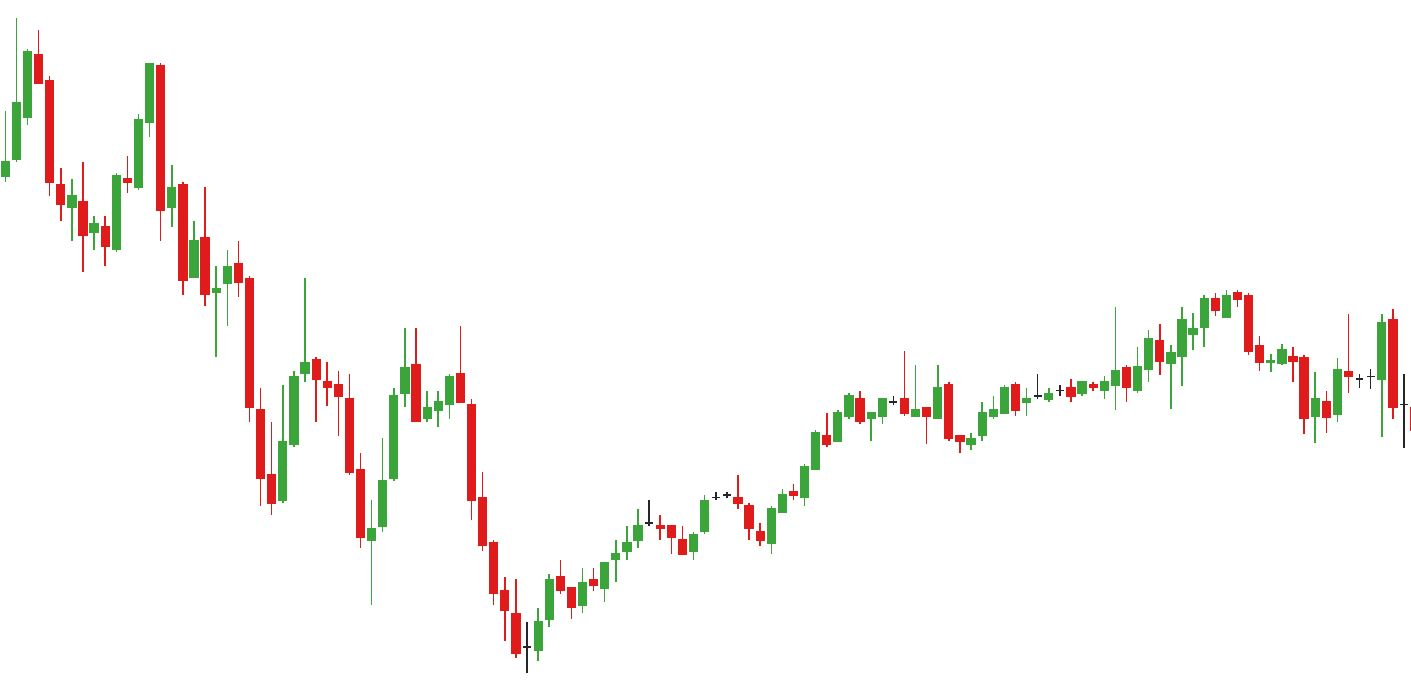buy: (255, 428, 389, 609)
sell: (400, 321, 467, 418)
